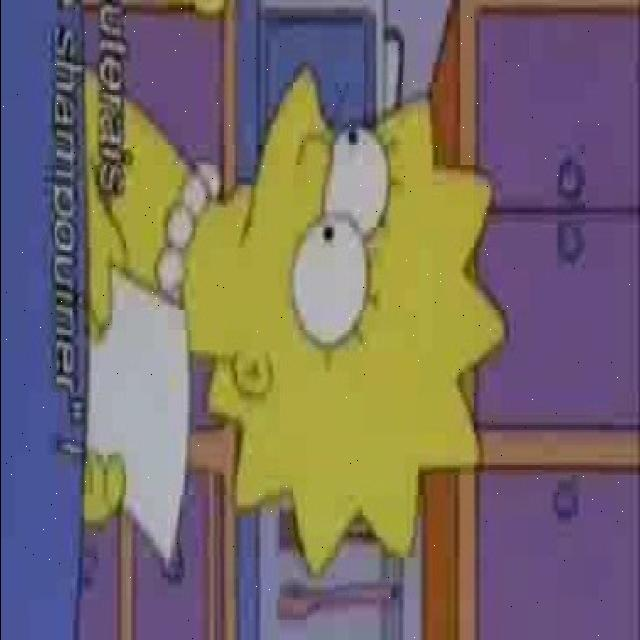Lisa Simpson: (164, 69, 505, 571)
